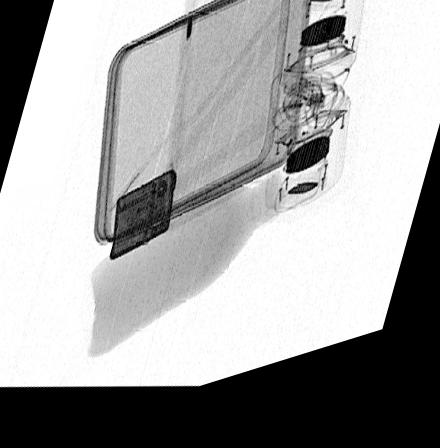Lighter: (109, 179, 177, 267)
